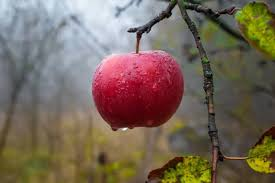tao: (82, 28, 194, 138)
